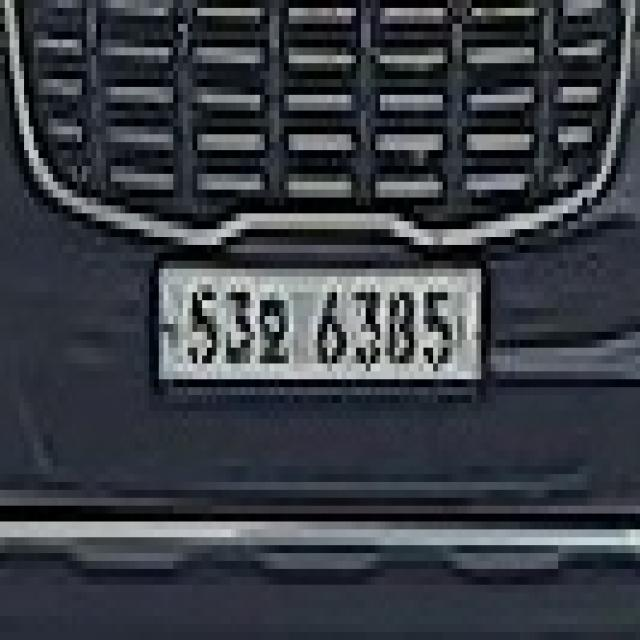3: (217, 277, 255, 379), (346, 285, 376, 387)
5: (414, 277, 452, 379), (188, 276, 216, 364)
6: (308, 276, 346, 372)
8: (380, 277, 419, 379)
ho: (246, 276, 294, 372)
license_plate: (144, 261, 491, 403)
